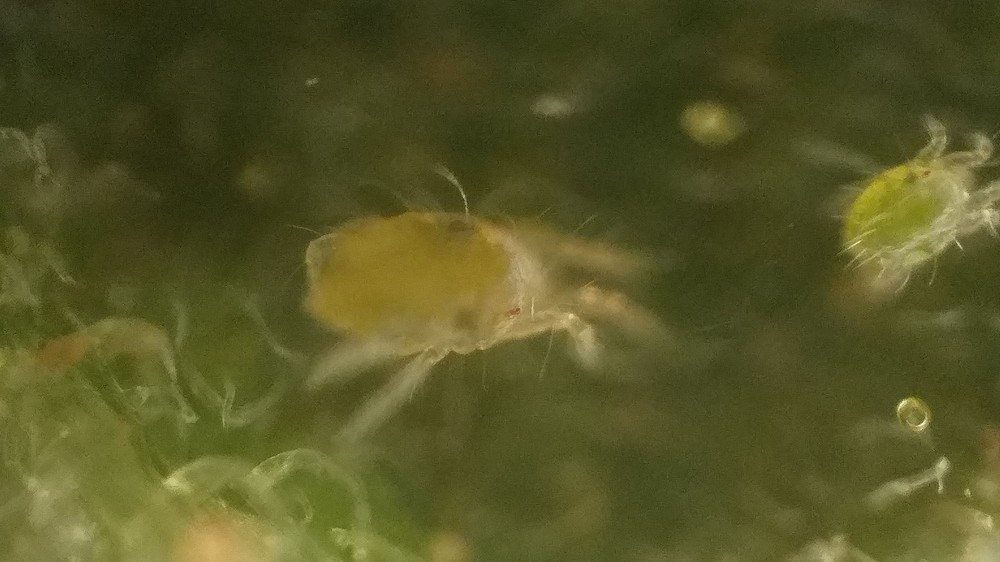Aracnido Rojo: (289, 100, 668, 479), (830, 124, 1000, 293)
